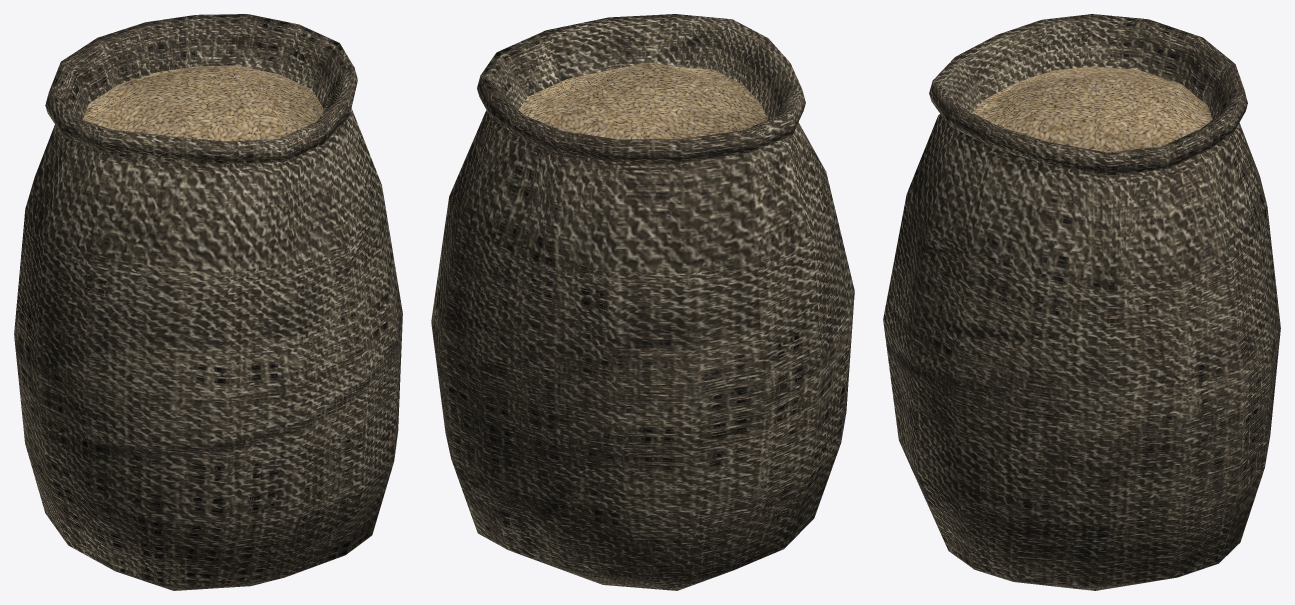
File: Sack_Seed_1.FBX
The picture shows the model from 3 angles, left to right: view 1: azimuth 30°, elevation 25°; view 2: azimuth 150°, elevation 25°; view 3: azimuth 270°, elevation 25°; orthographic projection.
Visible parts, largest first — view 1: mesh; view 2: mesh; view 3: mesh.
Boxes of the visible parts, x1,y1,x2,y2 form: mesh: (14,14,402,590); mesh: (431,14,854,590); mesh: (883,14,1280,590).
Size of the model in its own units: 57.43 by 56.86 by 75.25.
